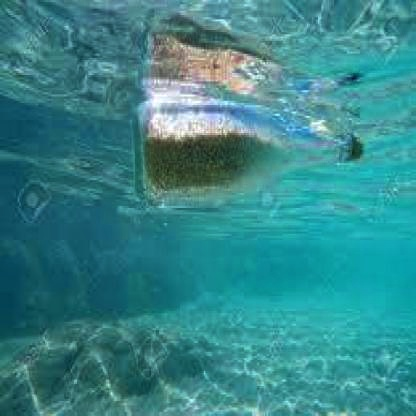gbottle: (133, 98, 363, 204)
